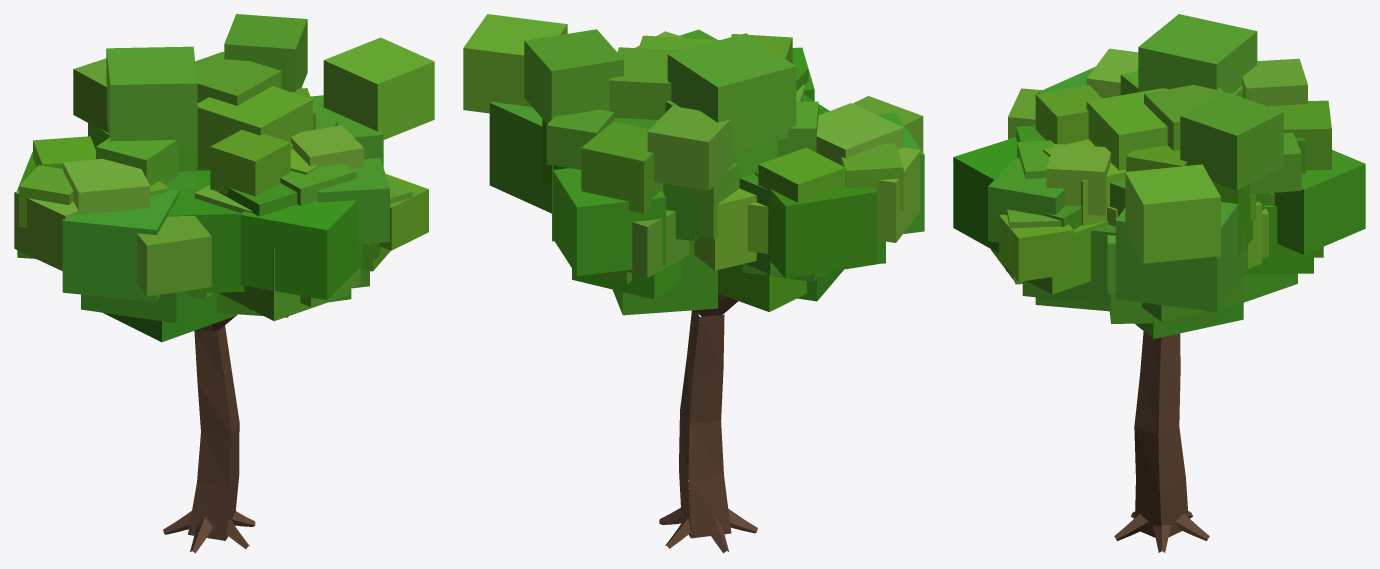
File: tree_oak.glb
3 views of the same model, side by side, from view 1: azimuth 30°, elevation 25°; view 2: azimuth 150°, elevation 25°; view 3: azimuth 270°, elevation 25° (orthographic). The views are drawn at different scales.
Visible parts, largest first — view 1: tree_oak_foliage, tree_oak_bark; view 2: tree_oak_foliage, tree_oak_bark; view 3: tree_oak_foliage, tree_oak_bark.
Part boxes in pixels (x1,y1,x2,y2): tree_oak_foliage: (14, 14, 434, 342); tree_oak_bark: (163, 316, 255, 553); tree_oak_foliage: (463, 14, 924, 315); tree_oak_bark: (659, 294, 757, 553); tree_oak_foliage: (953, 14, 1365, 338); tree_oak_bark: (1114, 331, 1209, 552).
Size of the model in its own units: 5.31 by 5.9 by 4.65.
